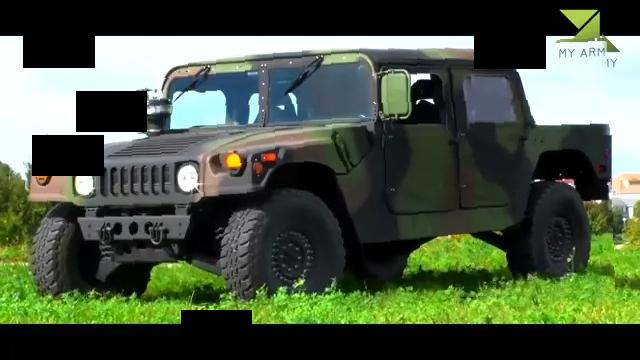MIL_HMMWV: (23, 44, 613, 308)
